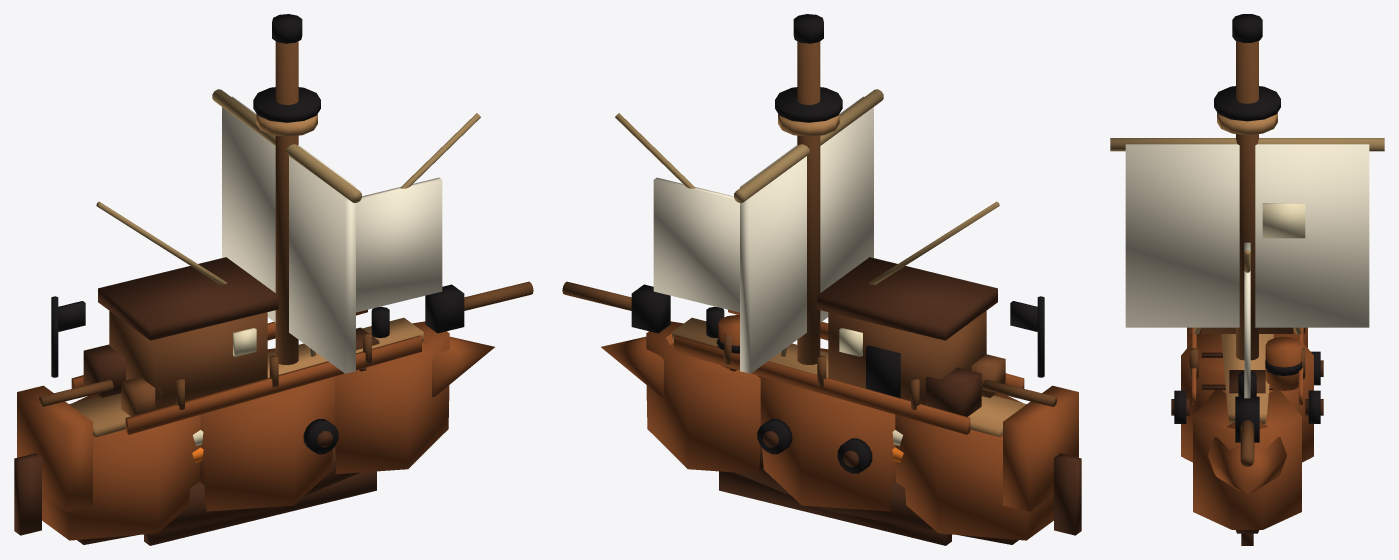
Rendered from Jack_Ship.obj.
The picture shows the model from 3 angles, left to right: view 1: azimuth 30°, elevation 25°; view 2: azimuth 150°, elevation 25°; view 3: azimuth 270°, elevation 25°; orthographic projection.
Parts seen in each view (by area): view 1: Jack_Ship; view 2: Jack_Ship; view 3: Jack_Ship.
Part boxes in pixels (<box>): Jack_Ship: <box>14,14,533,545</box>; Jack_Ship: <box>562,14,1081,545</box>; Jack_Ship: <box>1110,14,1384,545</box>.
Size of the model in its own units: 1.92 by 1.75 by 0.9.
